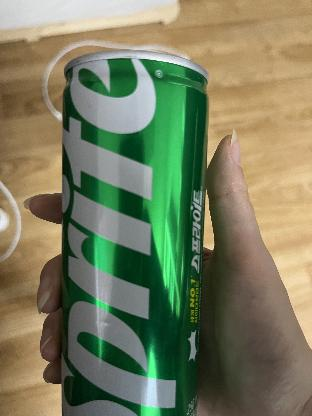Can: (58, 49, 212, 415)
